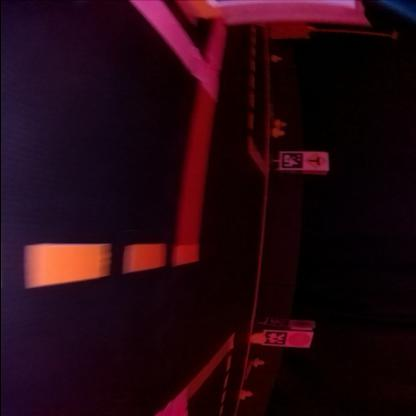Duckie: (270, 55, 284, 63), (272, 130, 284, 139), (240, 392, 252, 400), (275, 120, 285, 128), (252, 361, 264, 366)
Intersection sign: (306, 154, 327, 169)
QR code: (284, 152, 304, 170), (264, 332, 286, 345), (266, 318, 290, 327)
Stop sign: (290, 335, 310, 346)
